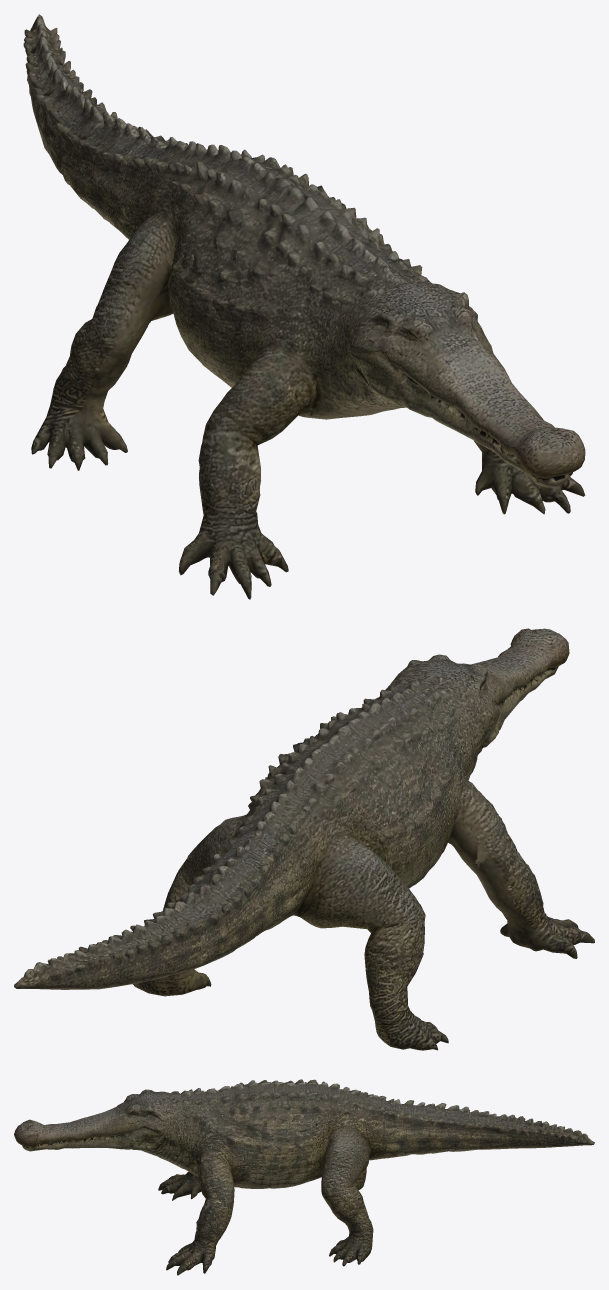
The model's file is sarcosuchus.glb.
The picture shows the model from 3 angles, top to bottom: view 1: azimuth 30°, elevation 25°; view 2: azimuth 150°, elevation 25°; view 3: azimuth 270°, elevation 25°; orthographic projection. The views are drawn at different scales.
Visible parts, largest first — view 1: dino; view 2: dino; view 3: dino.
Part boxes in pixels (x1,y1,x2,y2): dino: (23,14,585,599); dino: (14,628,594,1050); dino: (14,1079,594,1275).
Size of the model in its own units: 3.48 by 2.5 by 9.
1 material, 1 textured.
